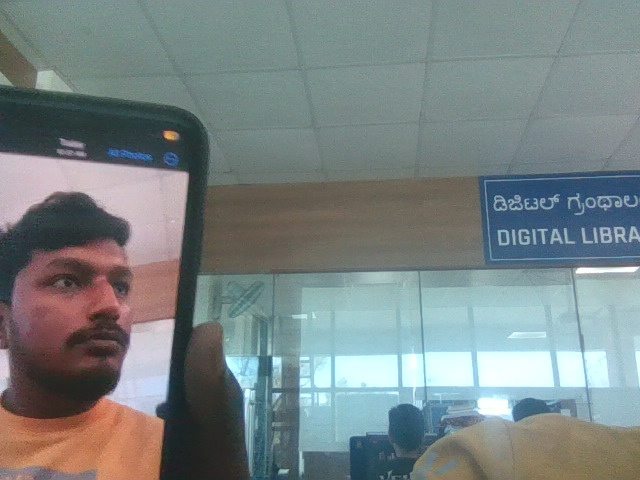fake: (0, 173, 162, 402)
